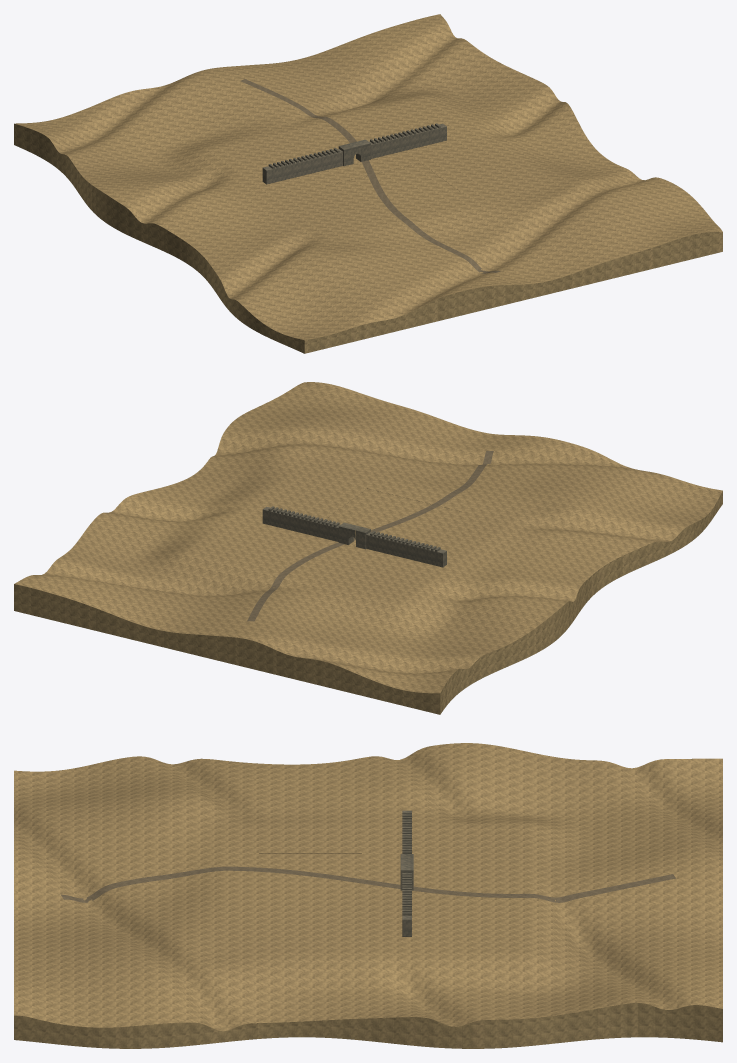
File: ch12_huining_reunion.glb
3 views of the same model, one above another, from view 1: azimuth 30°, elevation 25°; view 2: azimuth 150°, elevation 25°; view 3: azimuth 270°, elevation 25° (orthographic). The views are drawn at different scales.
Parts seen in each view (by area): view 1: terrain__eroded_landscape, terrain_boundary__closed_earth_boundary, huining_city_wall, settlement_road__settlement_road, huining_gate_greybox; view 2: terrain__eroded_landscape, terrain_boundary__closed_earth_boundary, huining_city_wall, settlement_road__settlement_road, huining_gate_greybox; view 3: terrain__eroded_landscape, terrain_boundary__closed_earth_boundary, settlement_road__settlement_road, huining_city_wall.
Boxes of the visible parts, x1,y1,x2,y2 form: terrain__eroded_landscape: (15, 14, 722, 340); terrain_boundary__closed_earth_boundary: (14, 123, 722, 353); huining_city_wall: (262, 123, 446, 184); settlement_road__settlement_road: (240, 79, 500, 273); huining_gate_greybox: (338, 139, 370, 166); terrain__eroded_landscape: (14, 382, 722, 693); terrain_boundary__closed_earth_boundary: (14, 491, 722, 714); huining_city_wall: (262, 506, 446, 567); settlement_road__settlement_road: (247, 451, 493, 621); huining_gate_greybox: (338, 522, 370, 549); terrain__eroded_landscape: (14, 743, 722, 1031); terrain_boundary__closed_earth_boundary: (14, 1003, 722, 1048); settlement_road__settlement_road: (61, 866, 675, 902); huining_city_wall: (402, 810, 411, 936).
Size of the model in its own units: 199 by 17.69 by 220.
3 materials, 3 textured.
